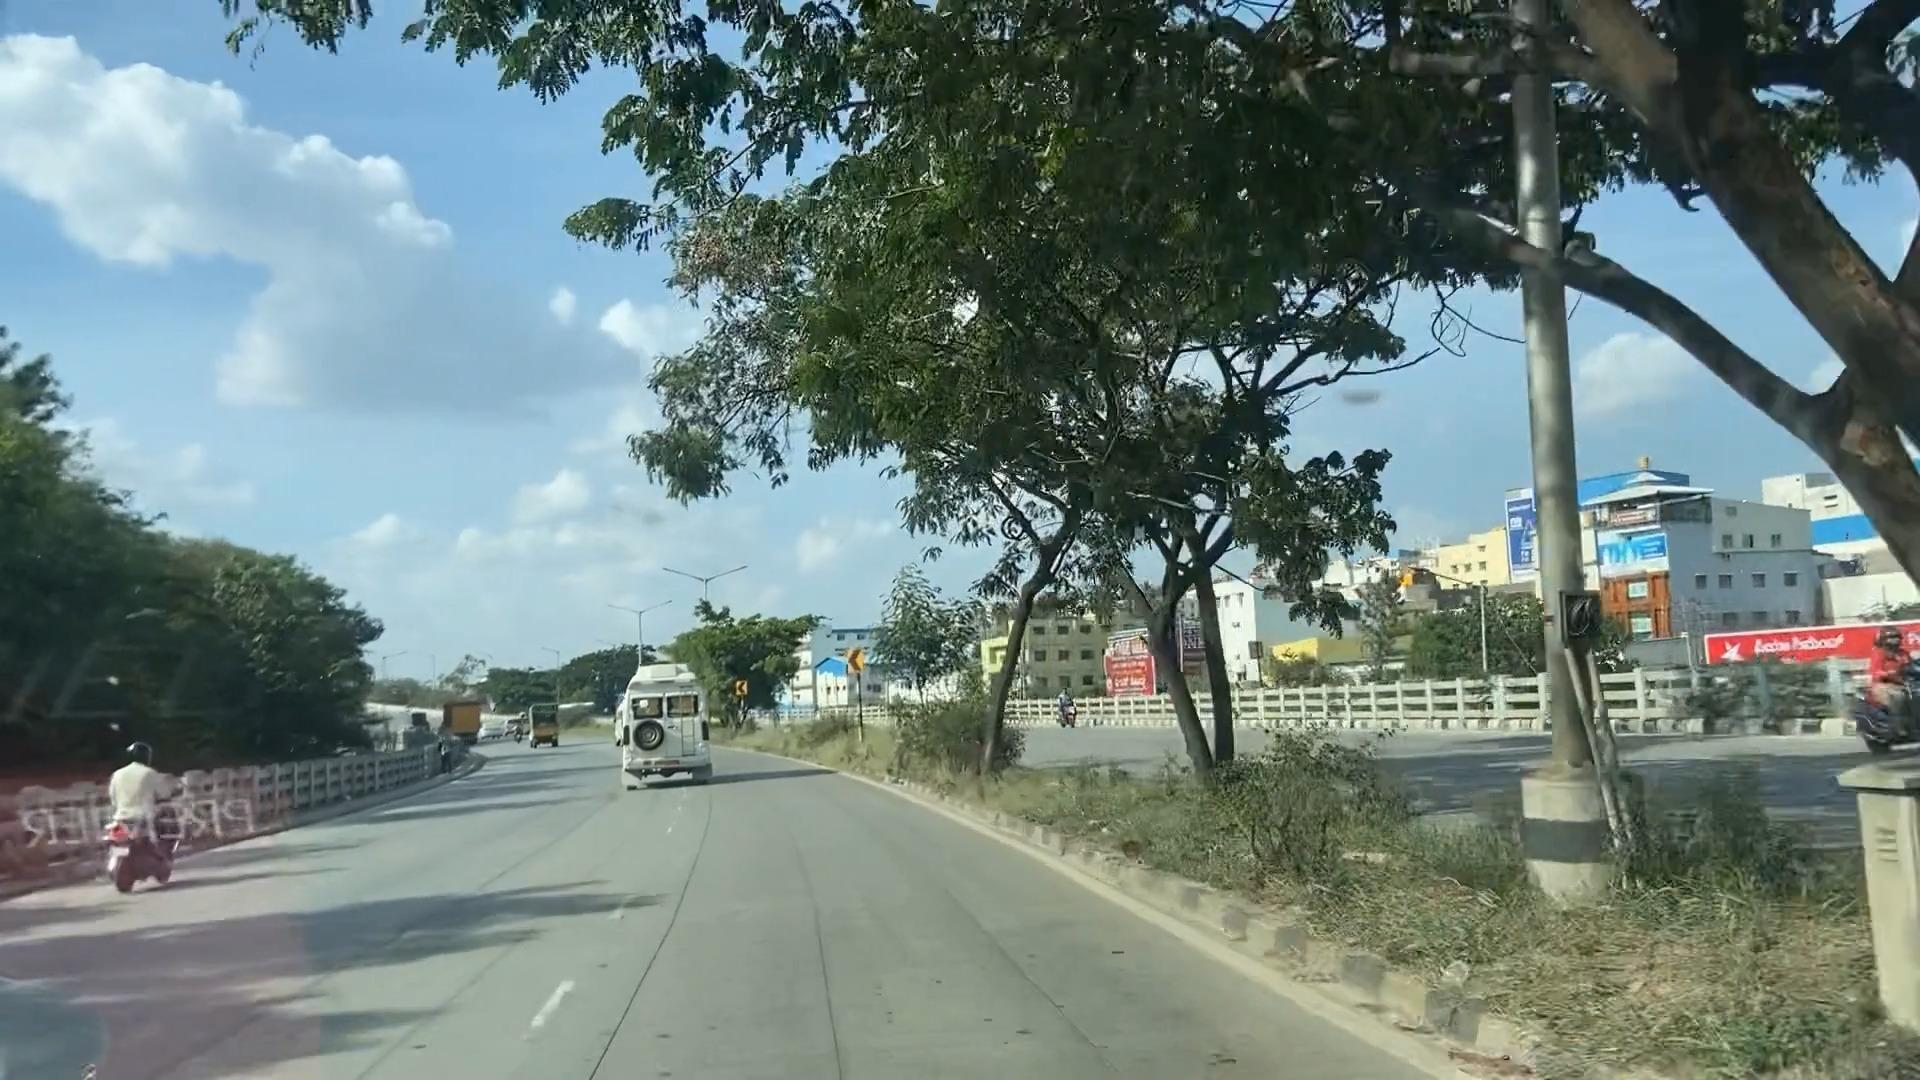HMV: (604, 661, 708, 791)
LMV: (108, 735, 179, 872)
